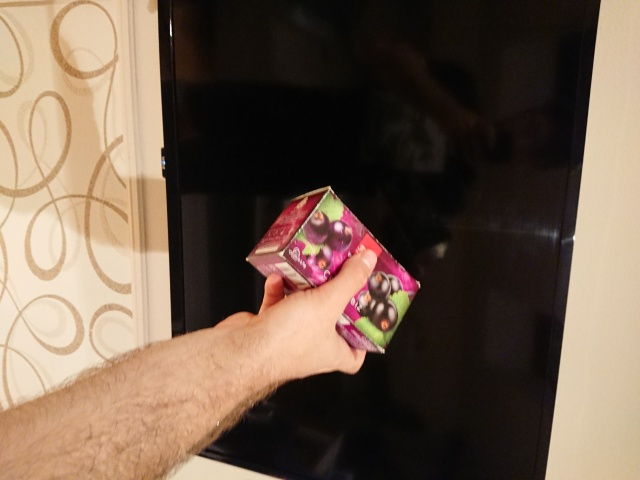Franck Black Currant Tea 60g: (241, 183, 424, 357)
